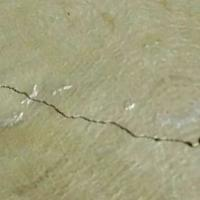crack: (2, 74, 199, 155)
